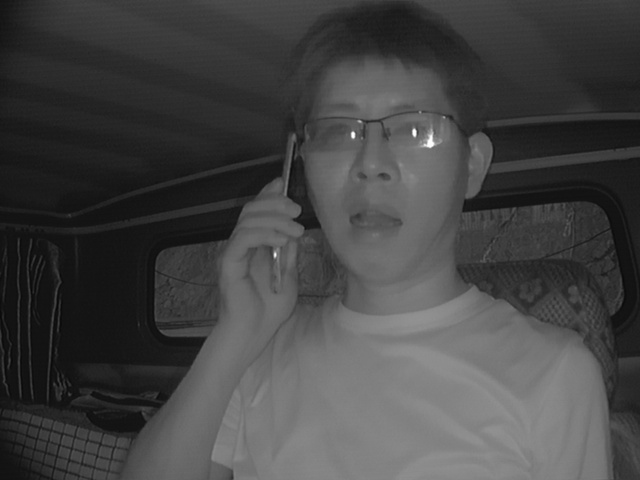hand: (214, 181, 302, 329)
